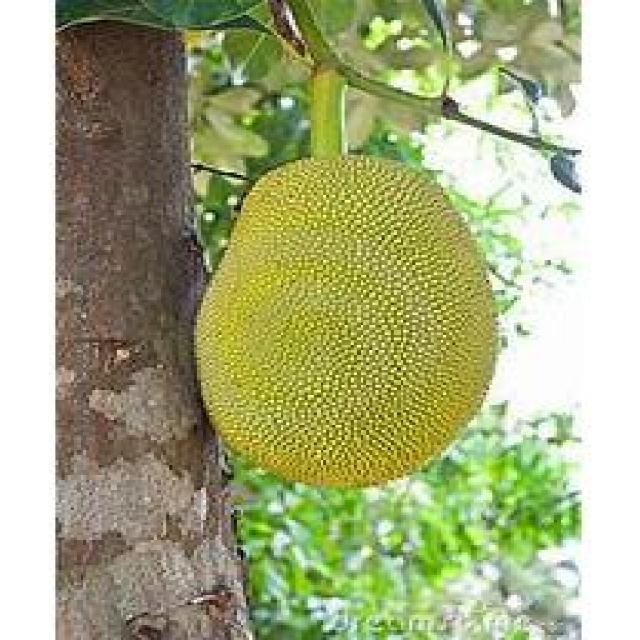Fruit: (166, 130, 539, 518)
